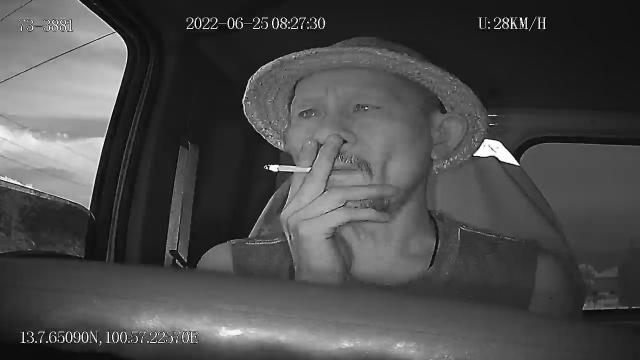SafeDriving: (346, 92, 386, 118), (293, 100, 326, 124)
Smoking: (262, 161, 314, 175)
